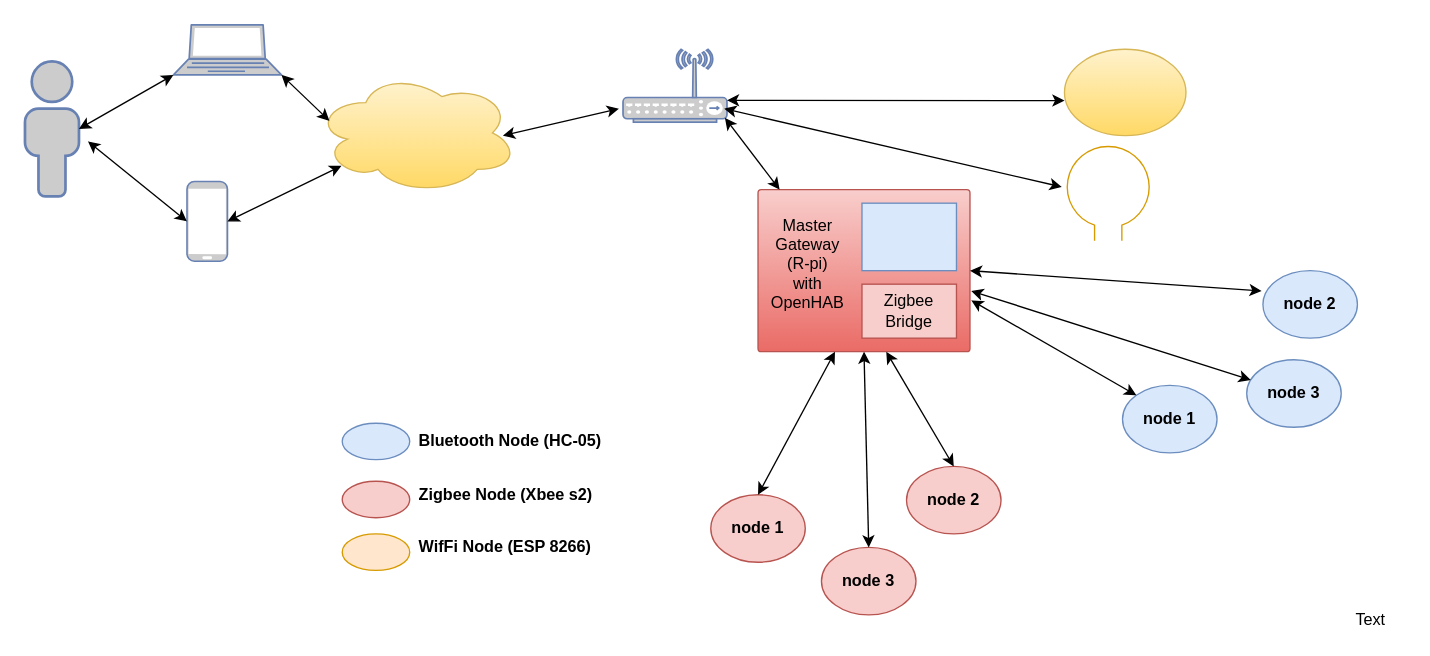
Some shapes in this 1430 by 656 pixel diagram are drawn without their labels. Each missing label, with the centre of its shape:
"Bluetooth Bridge" belongs at point (908, 236).
"MQTT server" belongs at point (1124, 92).
"OPEN INTERNET" belongs at point (416, 132).
"WiFi Light" belongs at point (1107, 193).
